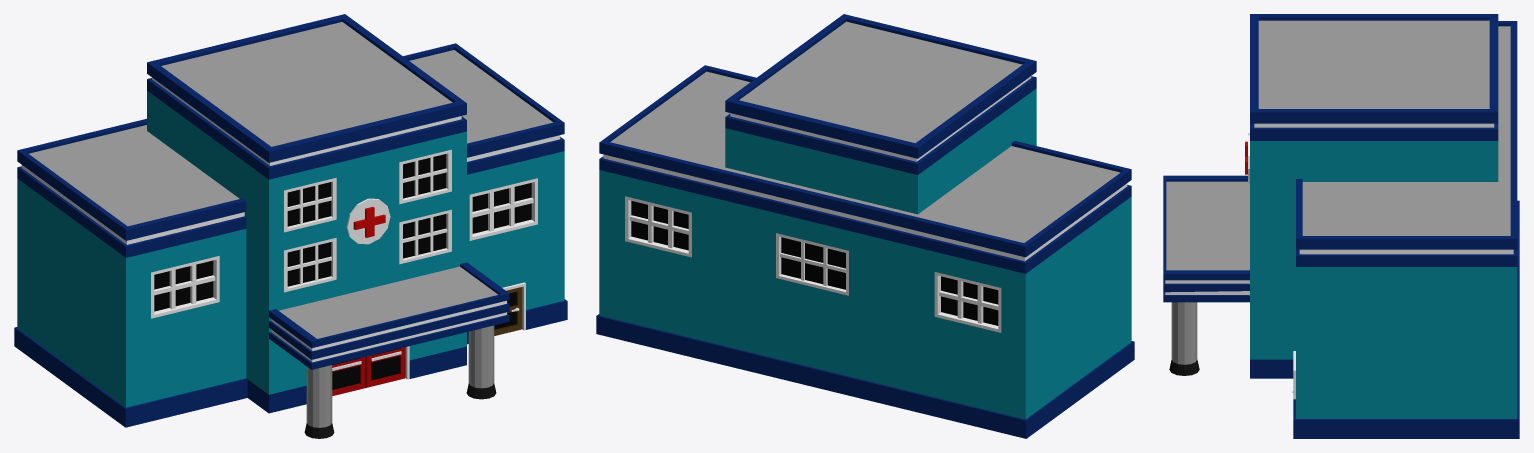
Rendered from Hospital.fbx.
The picture shows the model from 3 angles, left to right: view 1: azimuth 30°, elevation 25°; view 2: azimuth 150°, elevation 25°; view 3: azimuth 270°, elevation 25°; orthographic projection. The views are drawn at different scales.
Parts seen in each view (by area): view 1: Cube; view 2: Cube; view 3: Cube.
Boxes of the visible parts, left/top/right/bottom form: Cube: left=14, top=14, right=567, bottom=438; Cube: left=596, top=14, right=1134, bottom=438; Cube: left=1163, top=14, right=1519, bottom=438.
Size of what is drawn, in the model's own units: 24.74 by 14 by 16.99.
